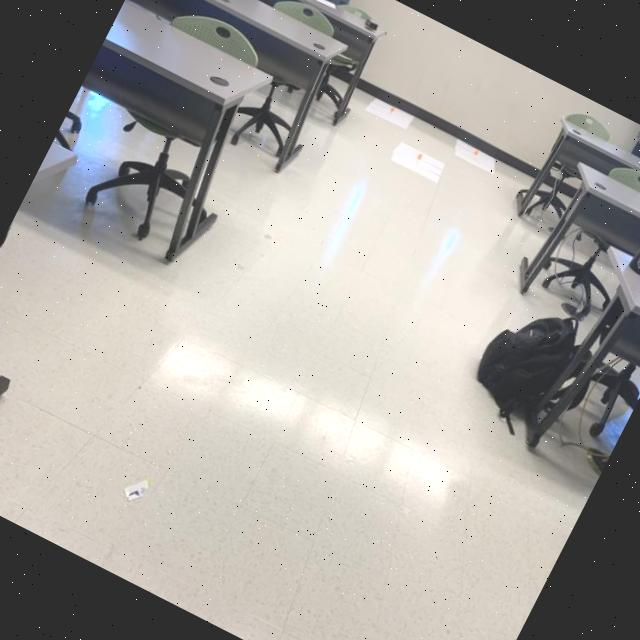ping-pong-ball: (390, 105, 396, 112), (416, 152, 422, 158), (474, 148, 478, 154)
